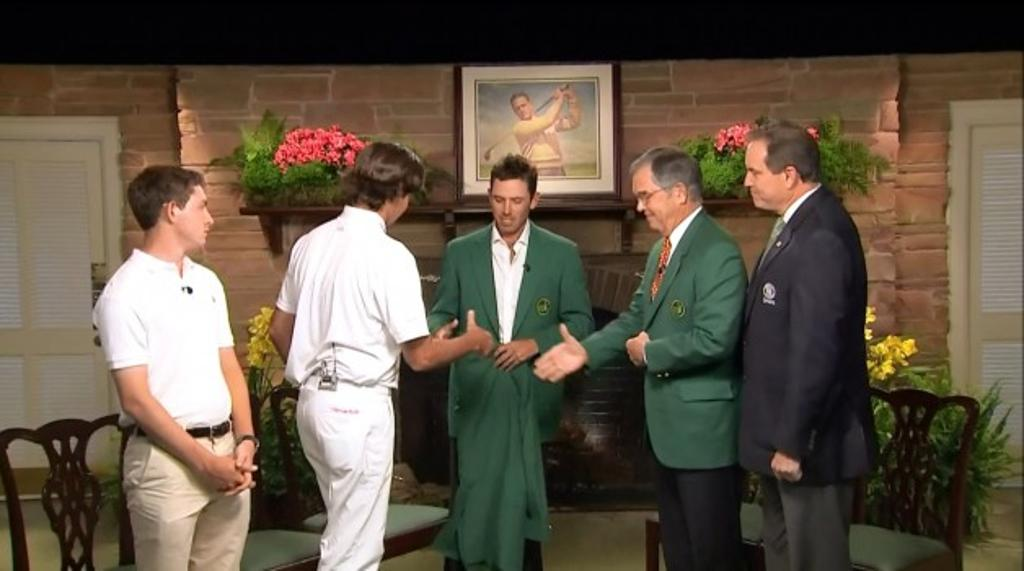face: (744, 142, 784, 207), (632, 172, 673, 228), (175, 185, 213, 243), (491, 180, 530, 232), (372, 188, 418, 221), (512, 98, 530, 118)
